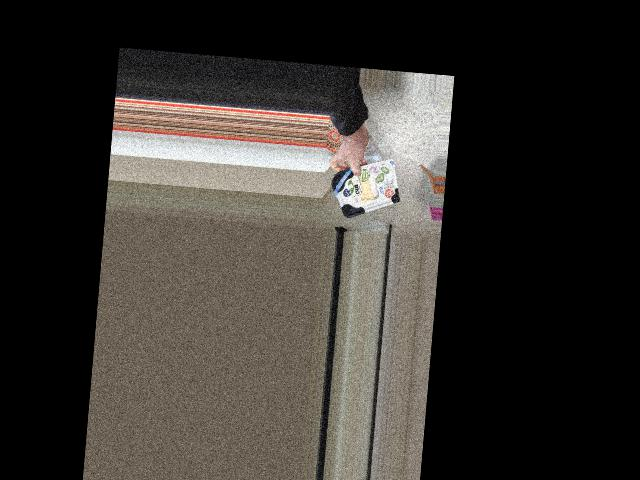cheese: (326, 164, 401, 217)
